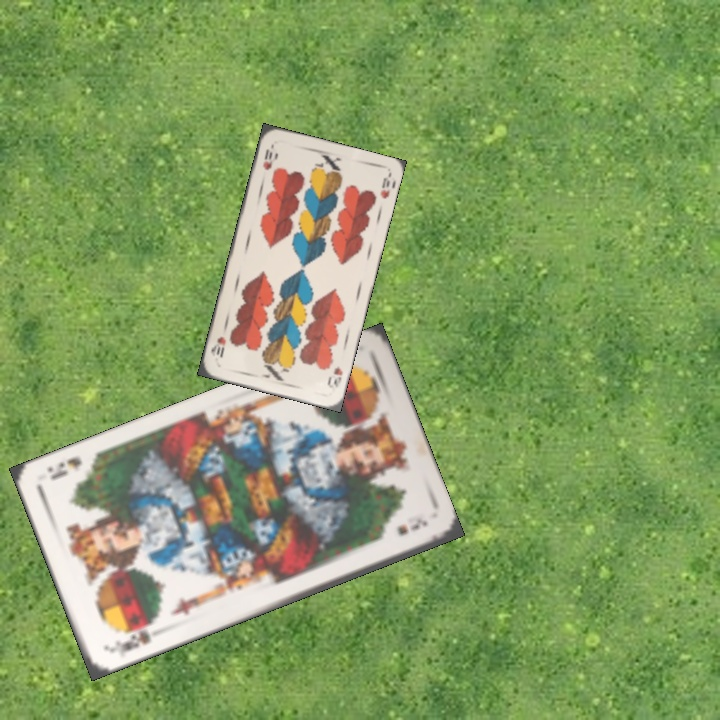H10: (323, 362, 345, 394), (259, 145, 275, 173)
SK: (106, 618, 159, 655)
